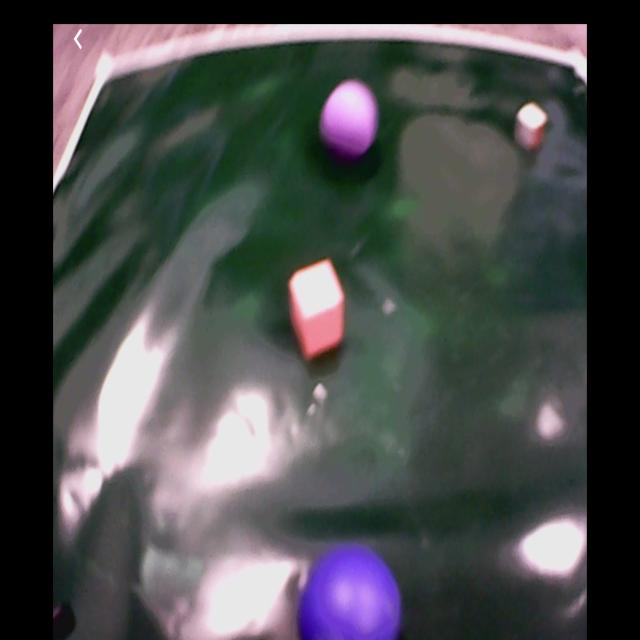ball: (299, 545, 403, 640), (322, 83, 377, 157)
